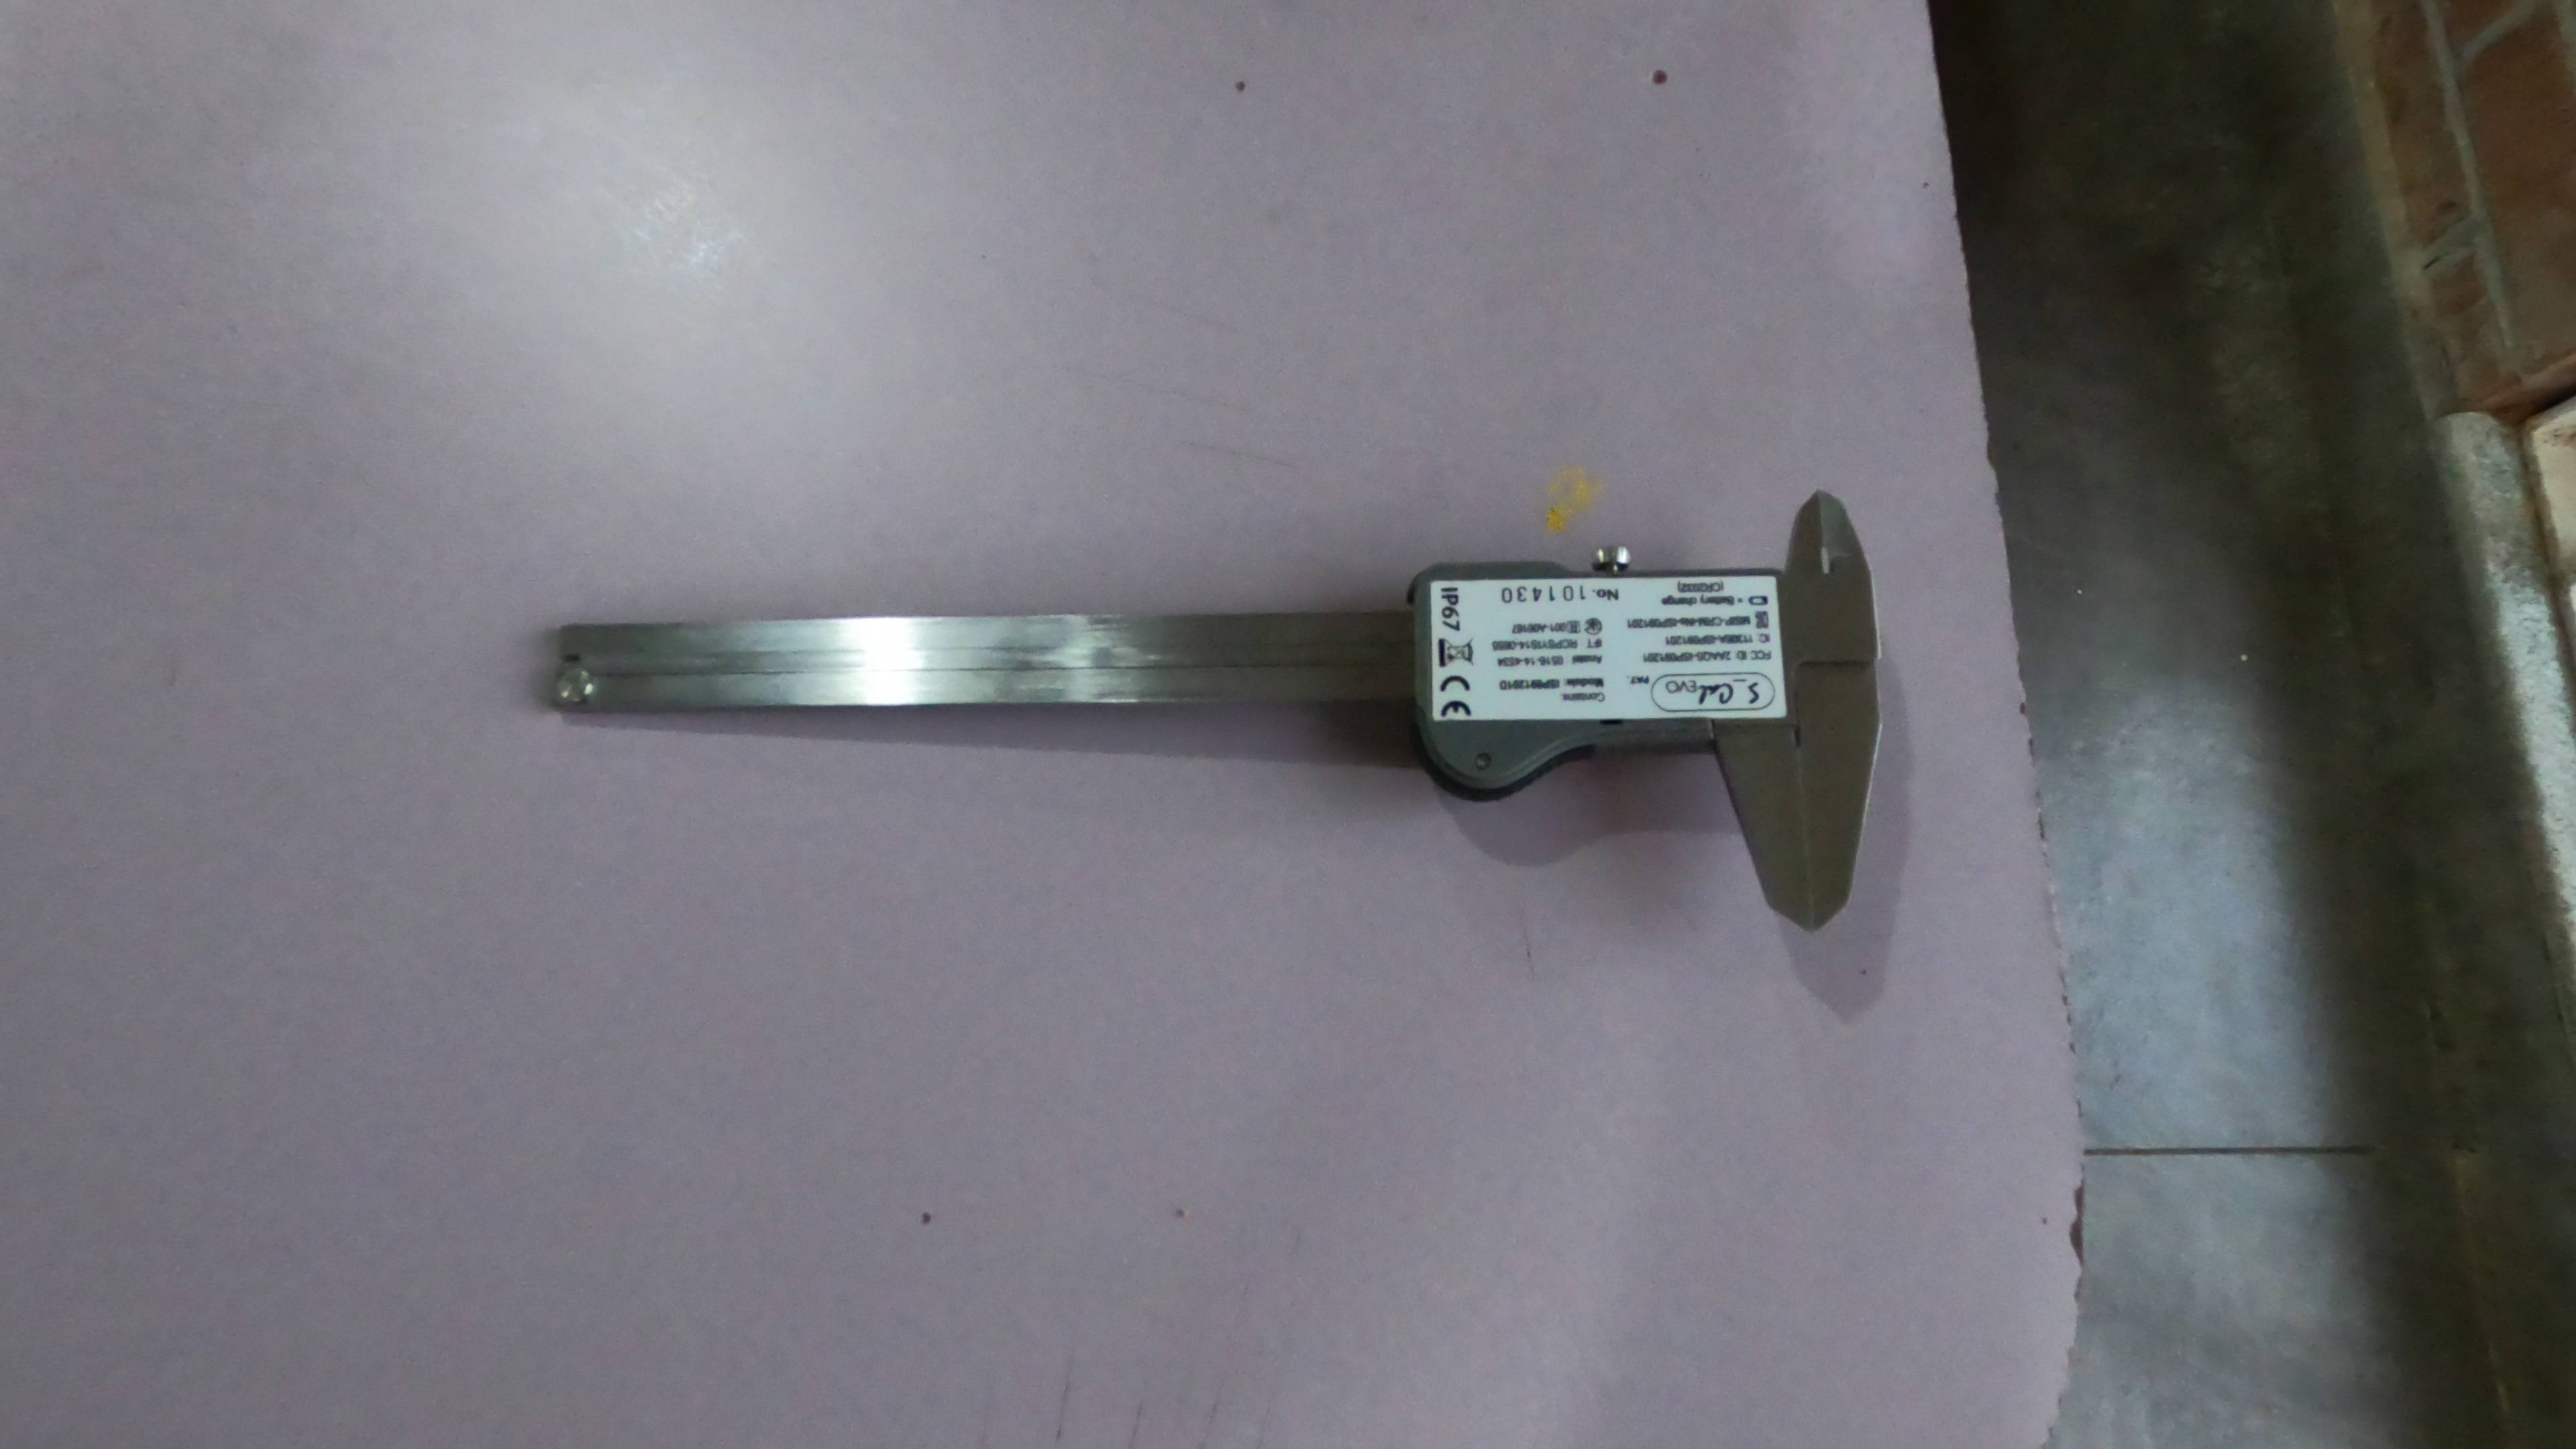vernier_caliper: (550, 478, 1895, 947)
